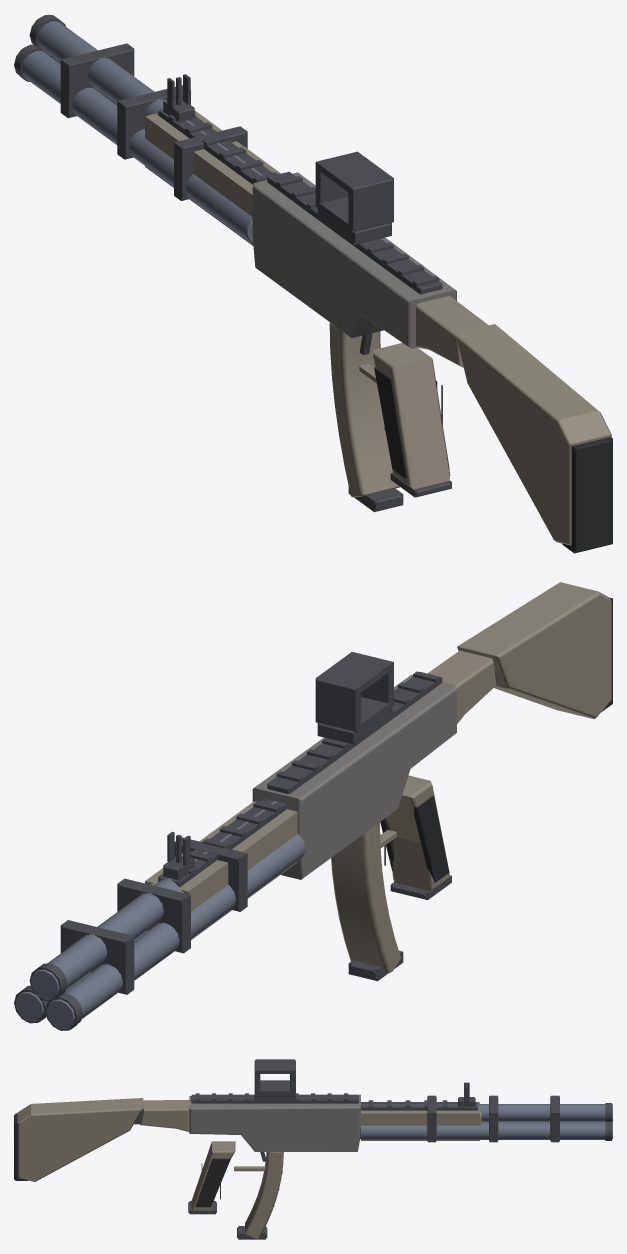
The model's file is g_triple.glb.
3 views of the same model, one above another, from view 1: azimuth 30°, elevation 25°; view 2: azimuth 150°, elevation 25°; view 3: azimuth 270°, elevation 25° (orthographic). The views are drawn at different scales.
Visible parts, largest first — view 1: L0, L1; view 2: L0, L1; view 3: L0, L1.
Boxes of the visible parts, x1,y1,x2,y2 form: L0: [14, 15, 612, 552]; L1: [19, 14, 612, 553]; L0: [14, 582, 612, 1030]; L1: [15, 598, 612, 1029]; L0: [14, 1060, 612, 1238]; L1: [15, 1059, 611, 1239].
Bounding box in the file's own units: 0.0632 × 0.2855 × 0.9073.
